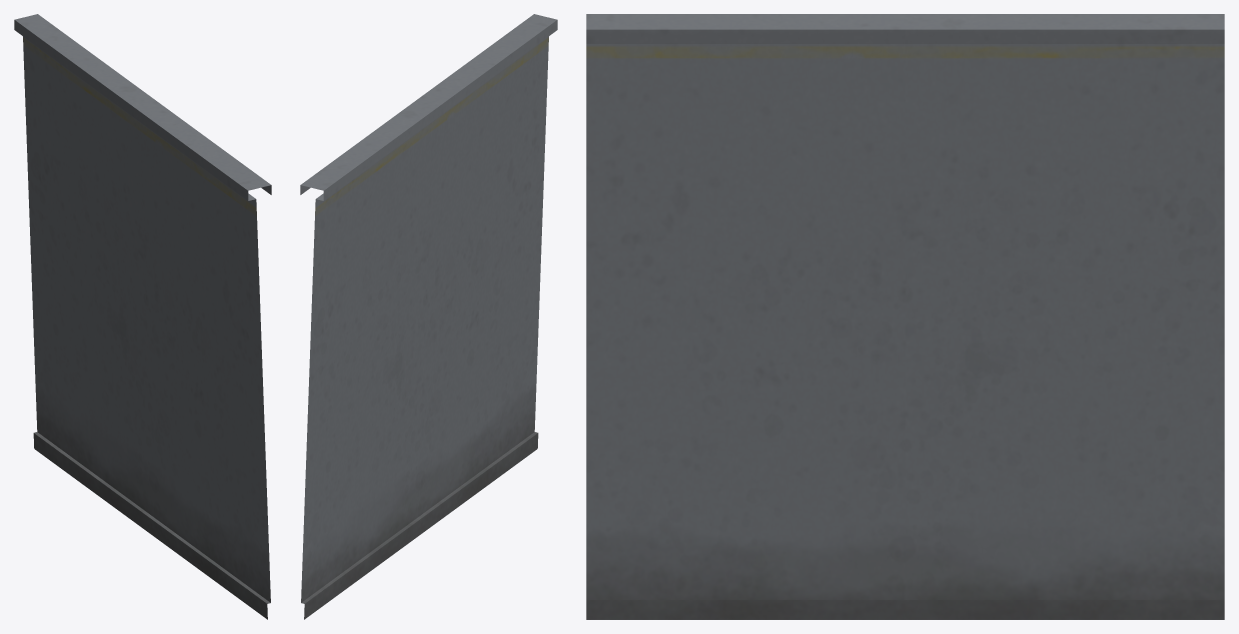
Rendered from spaceStation_wall_a.fbx.
3 views of the same model, side by side, from view 1: azimuth 30°, elevation 25°; view 2: azimuth 150°, elevation 25°; view 3: azimuth 270°, elevation 25° (orthographic). The views are drawn at different scales.
Parts seen in each view (by area): view 1: Plane; view 2: Plane; view 3: Plane.
Part boxes in pixels (x1,y1,x2,y2): Plane: (14,14,271,619); Plane: (300,14,557,619); Plane: (586,14,1224,619).
Bounding box in the file's own units: 0.2312 × 4.1 × 4.
Materials: 1 (1 with a texture image).
